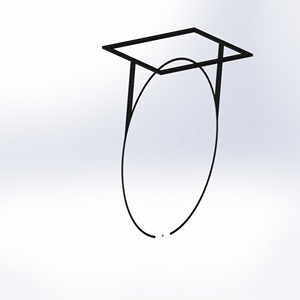circle: (97, 26, 254, 240)
